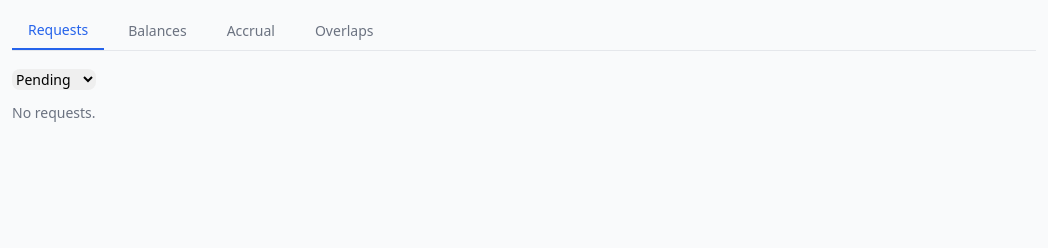
Test case: admin VacationManagement — accrual › shows entitlement, override badge, and eligibility on the Accrual tab
Click the button "accrual".
click(251, 31)  # box top-left (211, 12), bottom-right (291, 50)
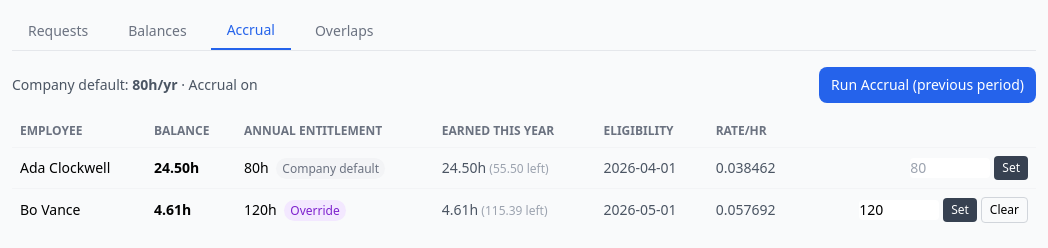
Result: the text "Ada Clockwell" is shown at top-left (12, 148), bottom-right (146, 188)
Result: the text "Bo Vance" is shown at top-left (12, 188), bottom-right (146, 231)
Result: the text "Company default" is shown at top-left (276, 158), bottom-right (385, 179)
